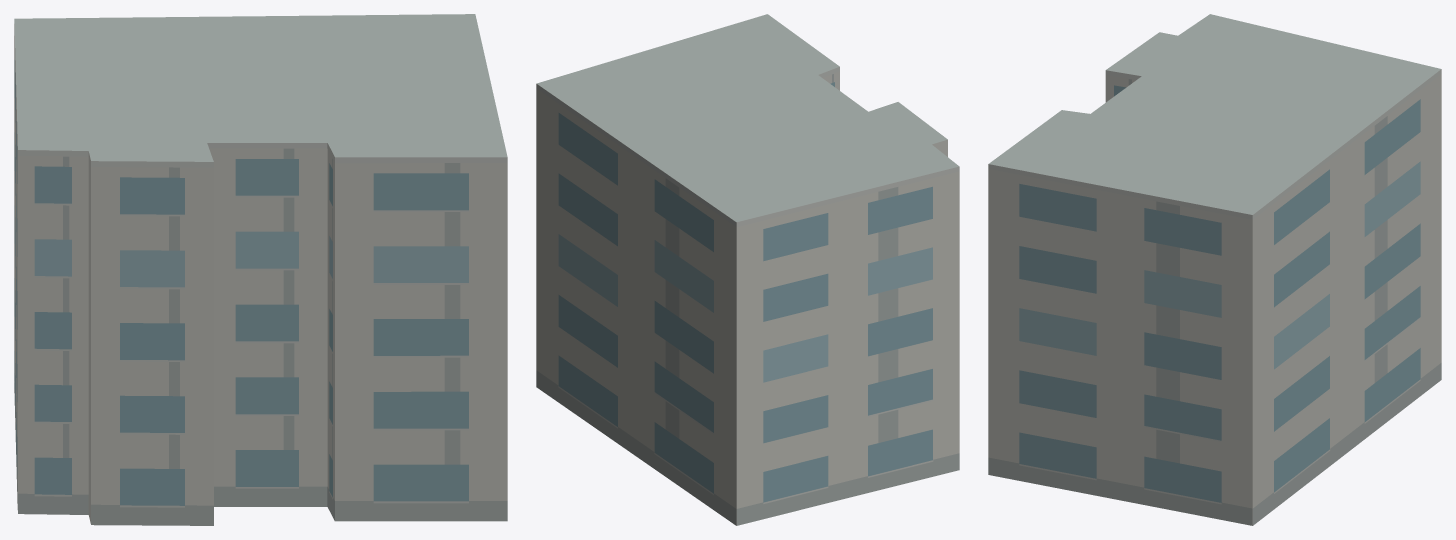
Rendered from survey-upis-32803071.glb.
3 renders of one model, left to right at view 1: azimuth 30°, elevation 25°; view 2: azimuth 150°, elevation 25°; view 3: azimuth 270°, elevation 25°, orthographic. The views are drawn at different scales.
Visible parts, largest first — view 1: survey-upis-32803071.tmp; view 2: survey-upis-32803071.tmp; view 3: survey-upis-32803071.tmp.
Part boxes in pixels (x1,y1,x2,y2): survey-upis-32803071.tmp: (14,14,507,525); survey-upis-32803071.tmp: (536,14,959,525); survey-upis-32803071.tmp: (988,14,1441,525).
Size of the model in its own units: 21.09 by 15.2 by 20.09.
